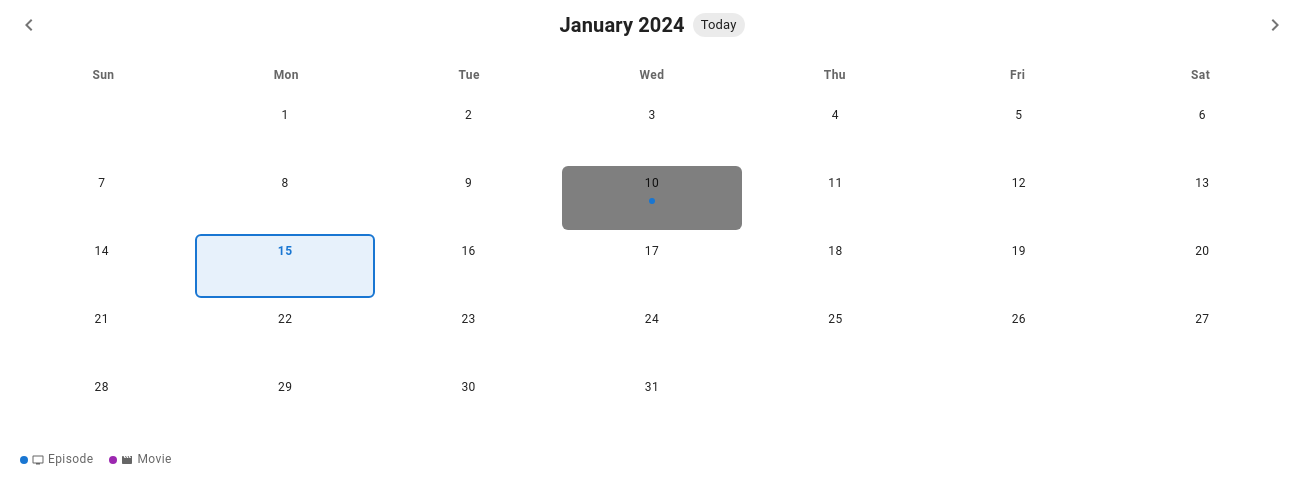
Scenario: CalendarGridView › day popover › should close the popover when an item link is clicked
What coordinates should you click on to do the following:
click the text "10"
I would click on:
 (652, 184)
Its box is top-left (645, 174), bottom-right (659, 194).
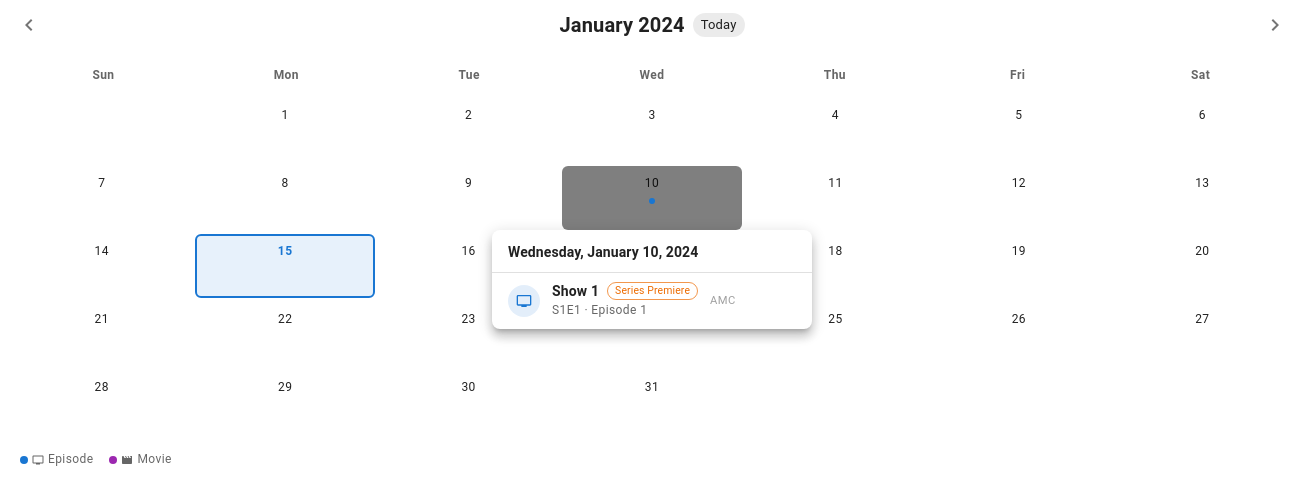
Check: the text "Show 1" is shown, box top-left (552, 281), bottom-right (599, 301)
Note: Clicking a list item calls handlePopoverClose
What coordinates should you click on to do the following:
click the list item "Show 1"
I would click on:
 (622, 300)
Its box is top-left (508, 282), bottom-right (736, 317).
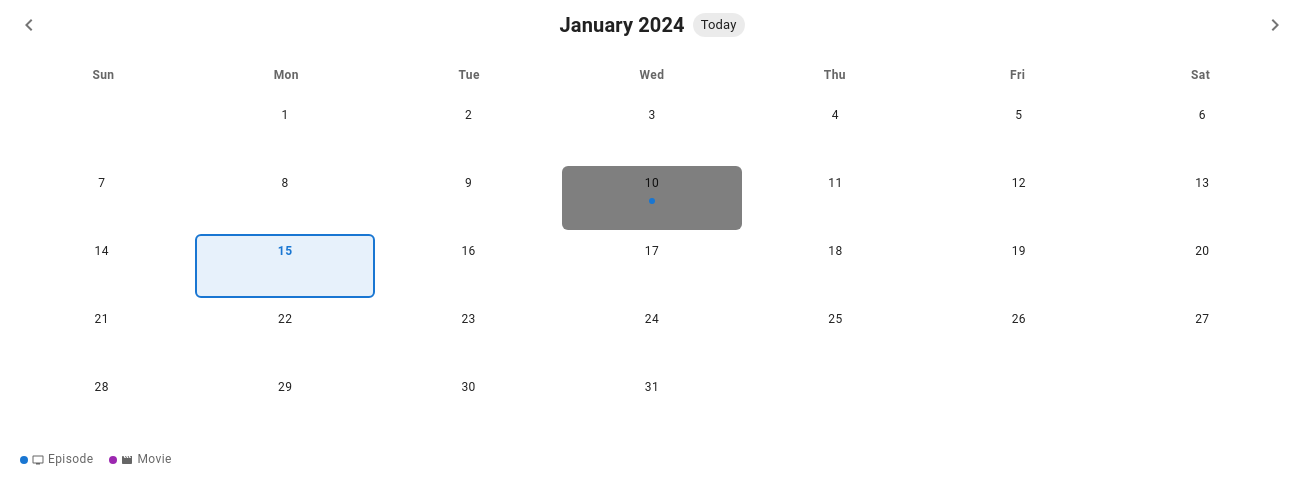
Check: the heading "Wednesday, January 10, 2024" is gone
